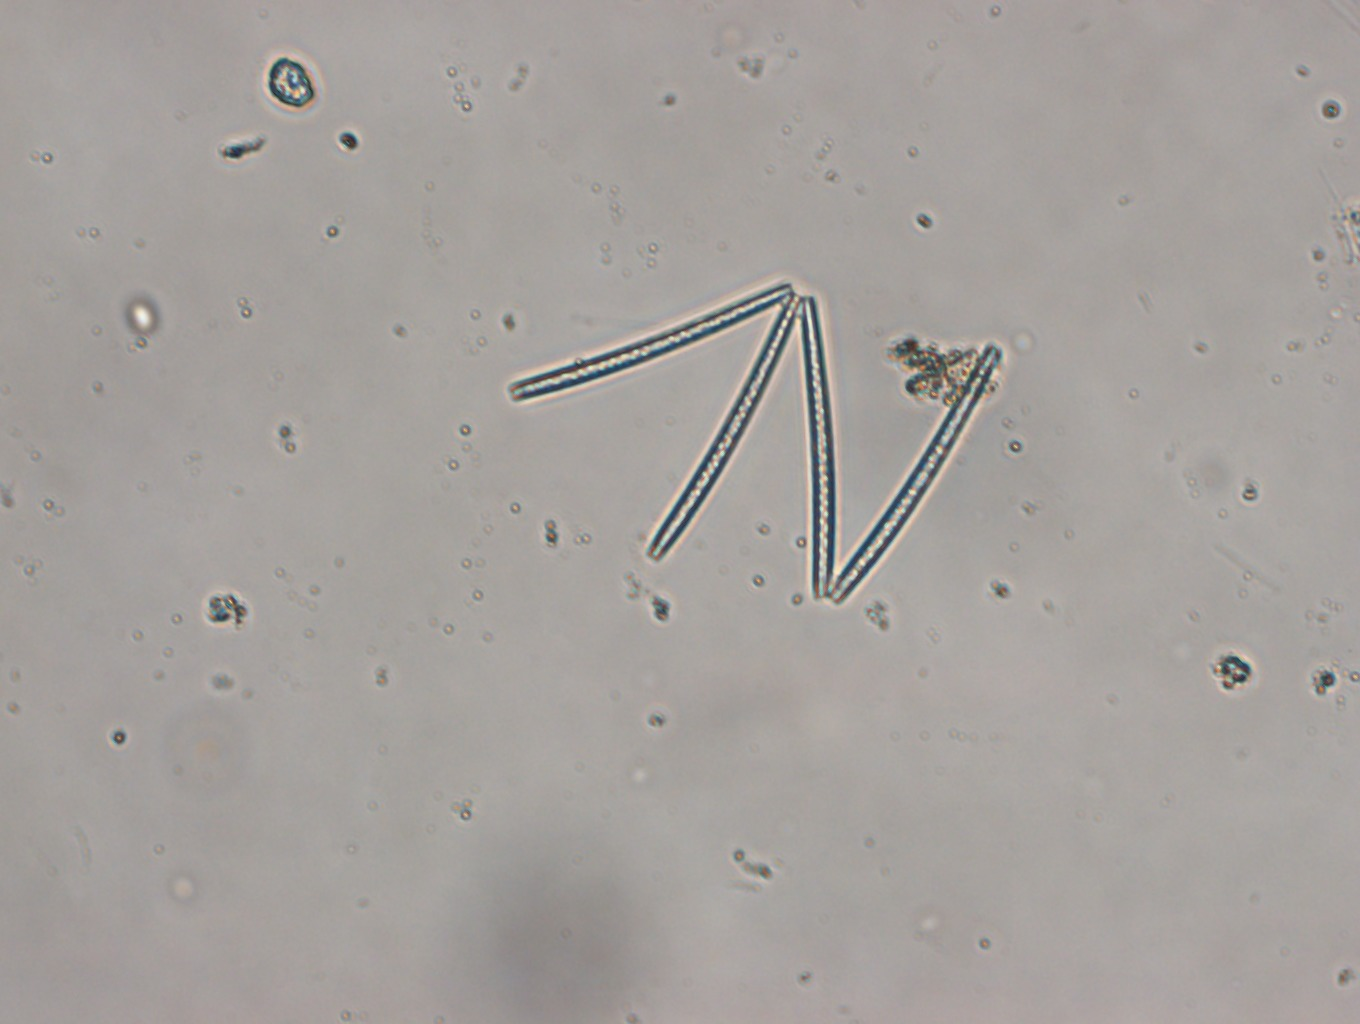thalassionema nitzschioides: (505, 280, 1000, 607)
